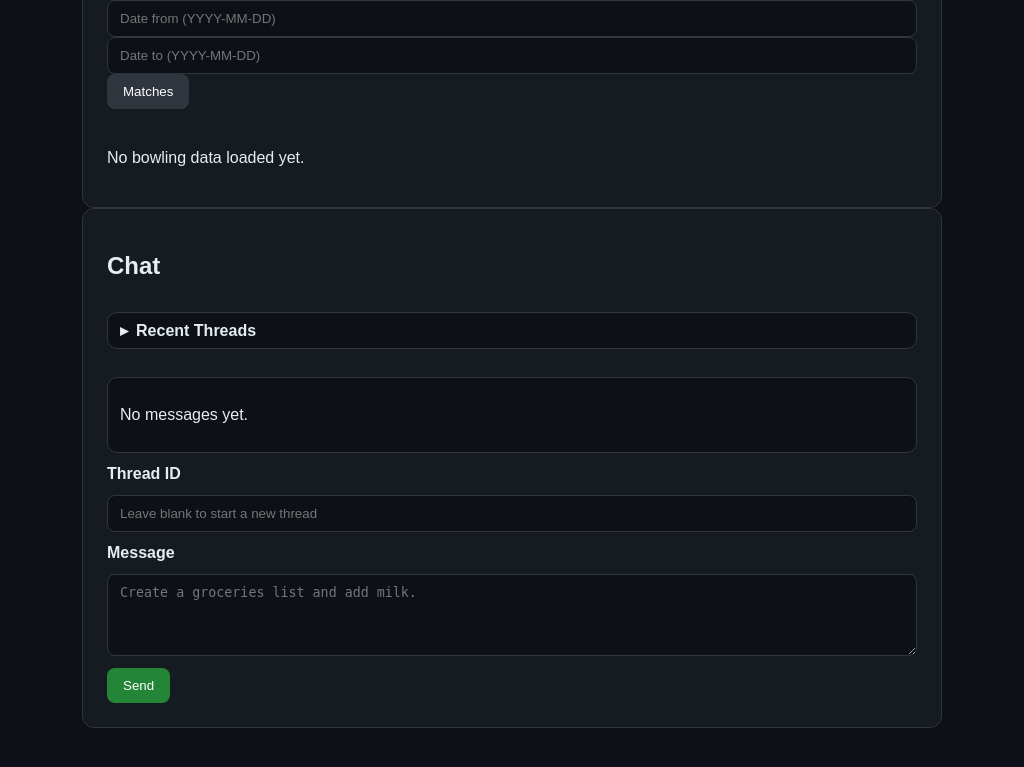
Test: HomePage › sends a message and appends reply
(page scrolled)
In the text box labelled "Message": (512, 615) left=107, top=574, right=917, bottom=656, type "hello"
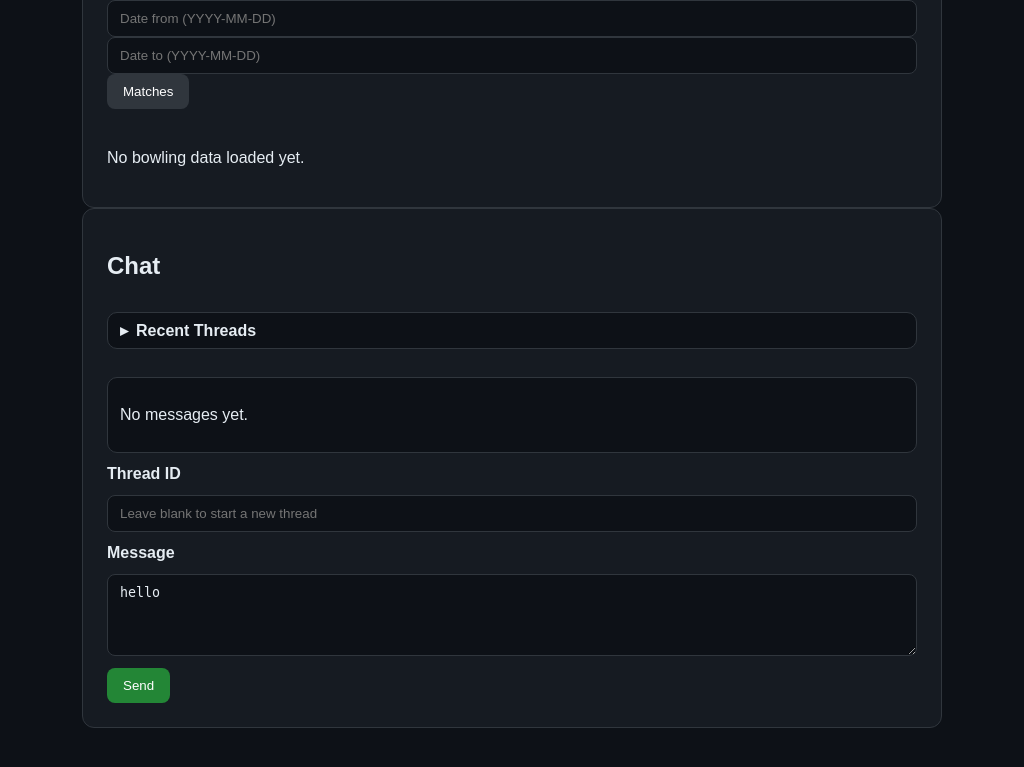
Click the button "Send": (139, 686) left=107, top=668, right=170, bottom=703
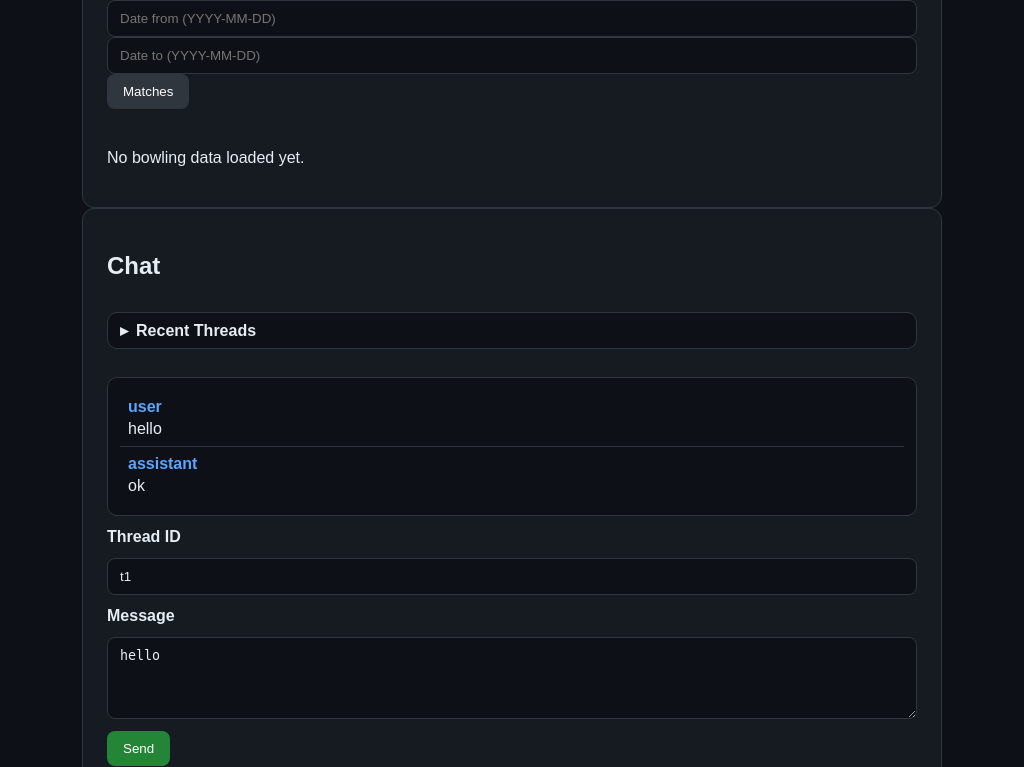
Check: the text "assistant" is shown, box left=128, top=455, right=197, bottom=472
Check: the text "ok" is shown, box left=128, top=477, right=145, bottom=494
